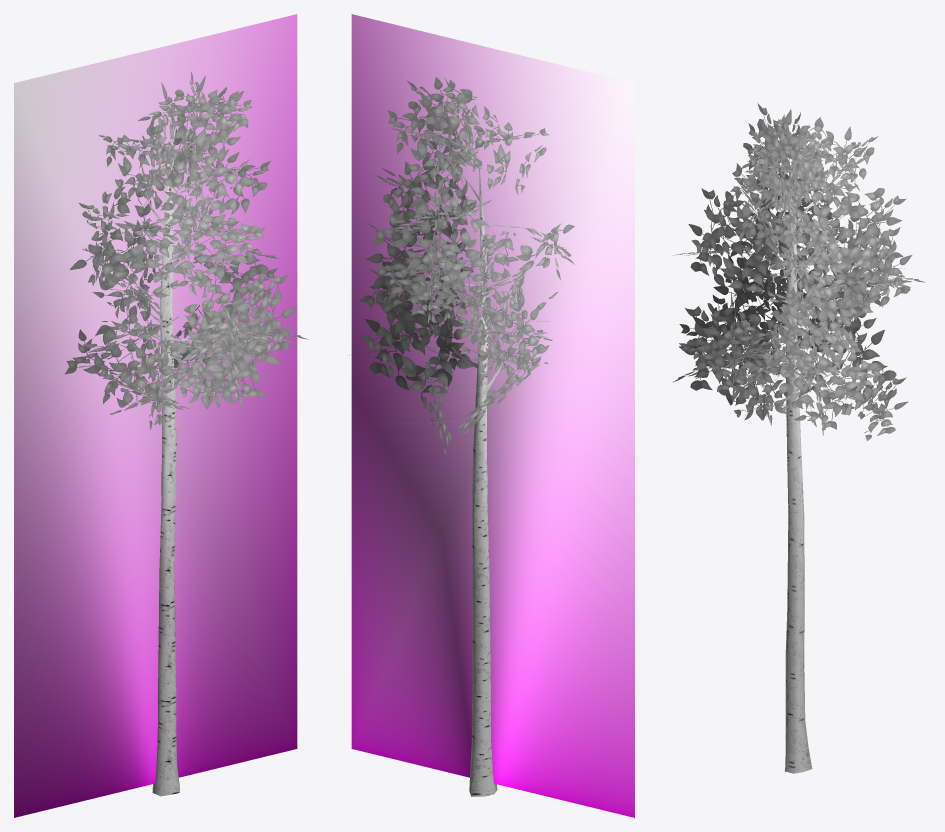
Rendered from Birch_01.fbx.
The picture shows the model from 3 angles, left to right: view 1: azimuth 30°, elevation 25°; view 2: azimuth 150°, elevation 25°; view 3: azimuth 270°, elevation 25°; orthographic projection. The views are drawn at different scales.
Parts seen in each view (by area): view 1: FAE_Birch_A_Billboard, FAE_Birch_A_LOD0; view 2: FAE_Birch_A_Billboard, FAE_Birch_A_LOD0; view 3: FAE_Birch_A_LOD0.
Boxes of the visible parts, <box> form: FAE_Birch_A_Billboard: <box>14,14,297,817</box>; FAE_Birch_A_LOD0: <box>65,72,308,796</box>; FAE_Birch_A_Billboard: <box>351,14,634,817</box>; FAE_Birch_A_LOD0: <box>349,77,574,796</box>; FAE_Birch_A_LOD0: <box>672,103,925,773</box>.
Size of what is drawn, in the model's own units: 916 by 2300 by 815.
